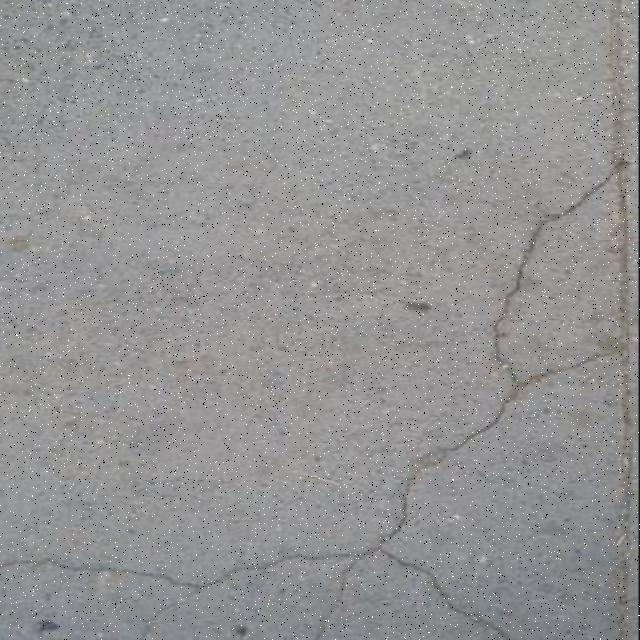Crack: (2, 15, 639, 640)
